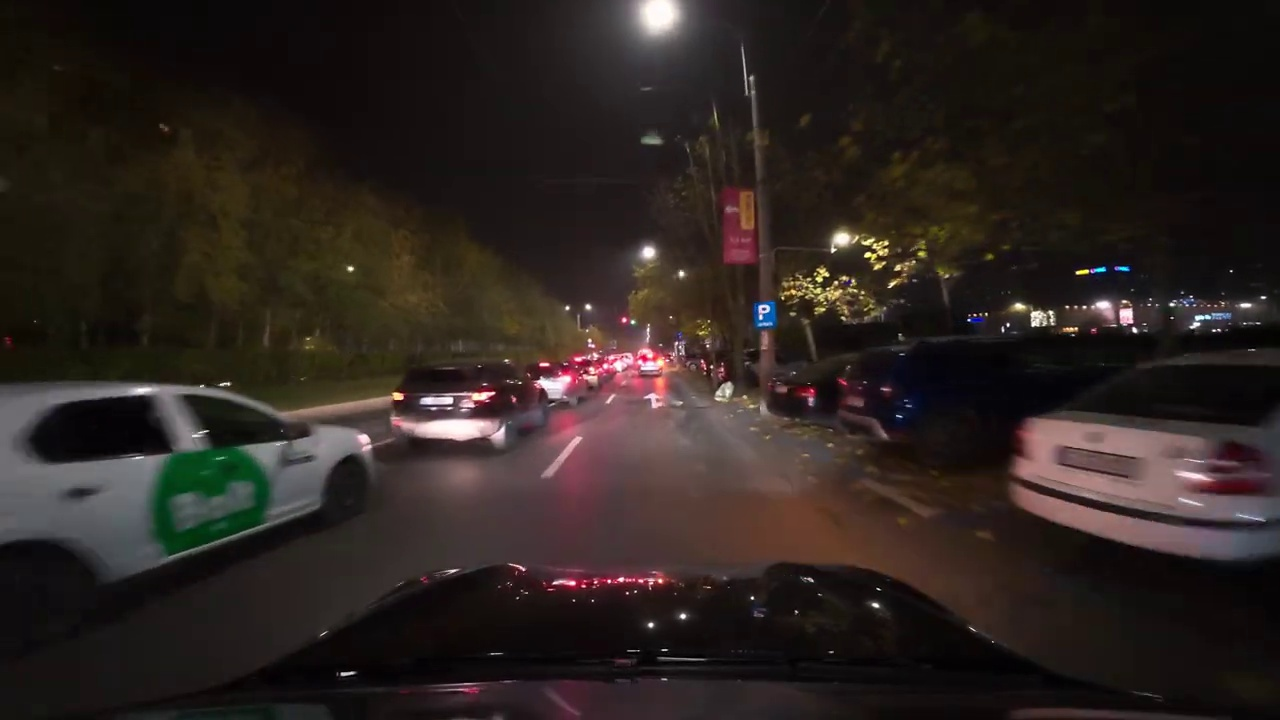acesa: (639, 1, 680, 34), (635, 242, 659, 269)
